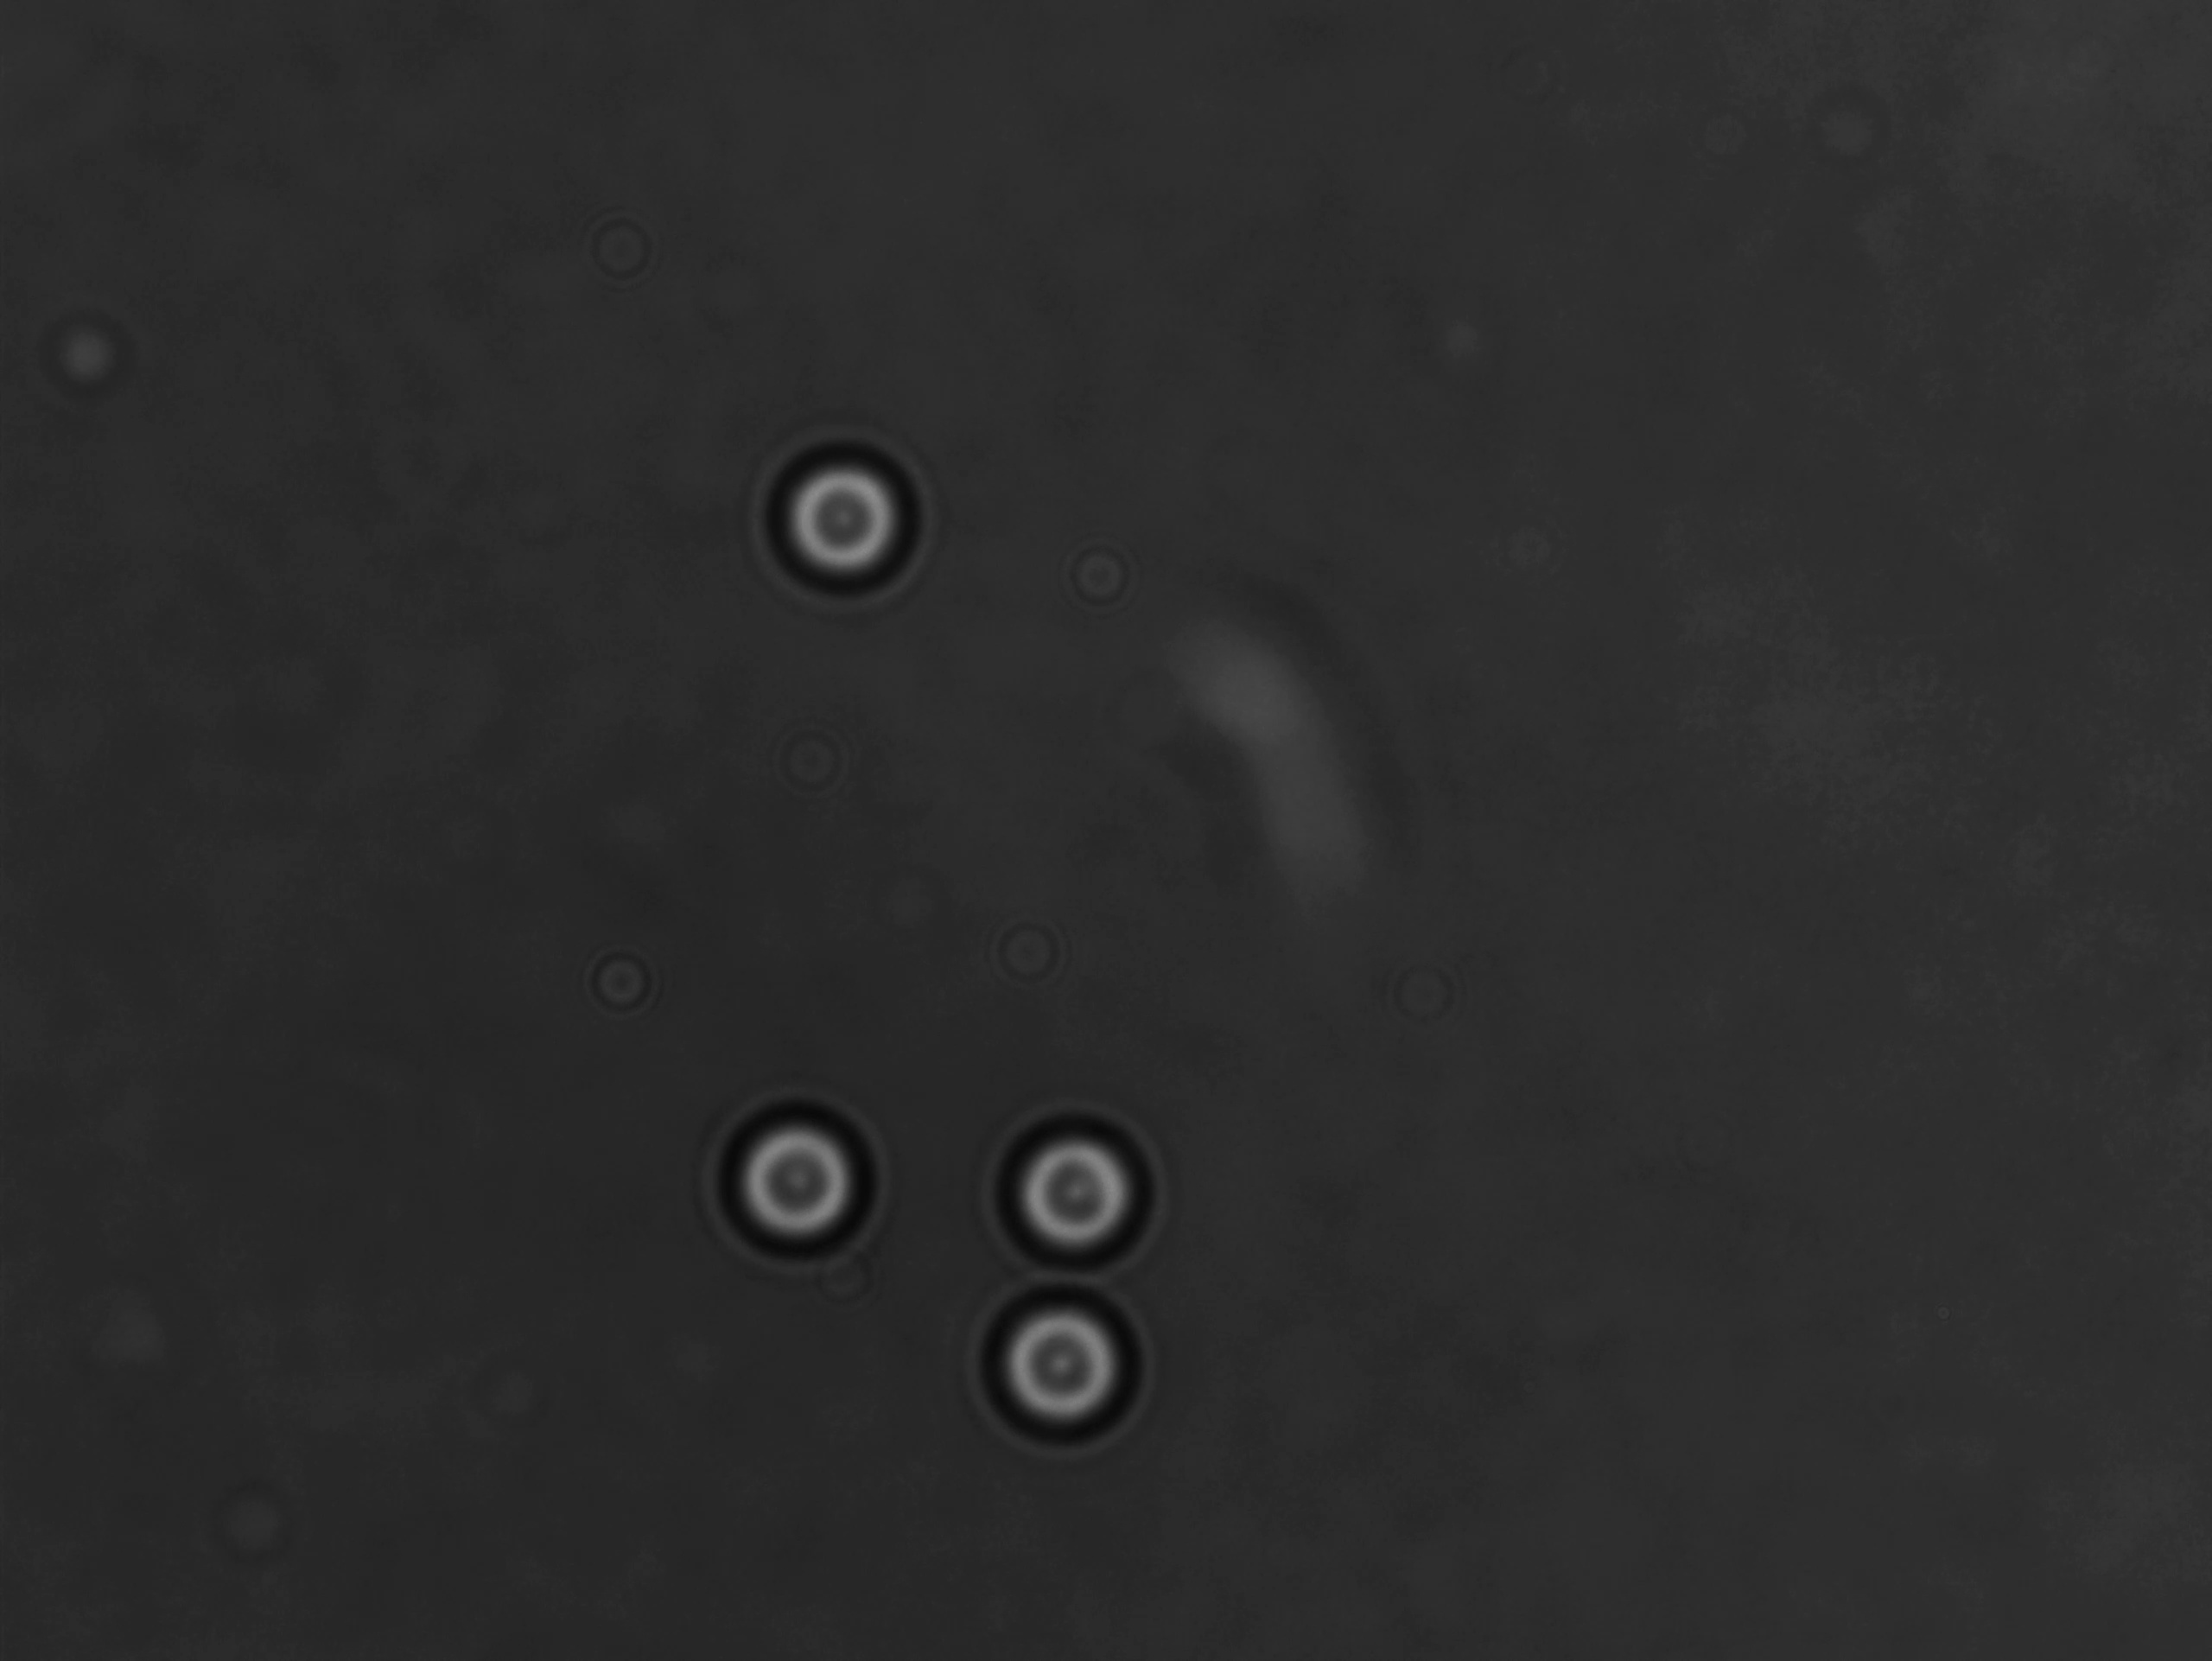depth:40: (750, 433, 935, 605), (701, 1106, 883, 1272), (993, 1099, 1169, 1265), (973, 1291, 1144, 1452)
